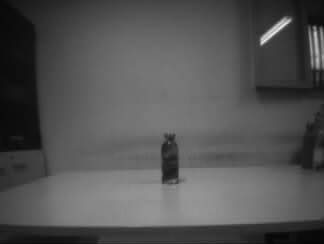Bottle: (161, 133, 179, 184)
